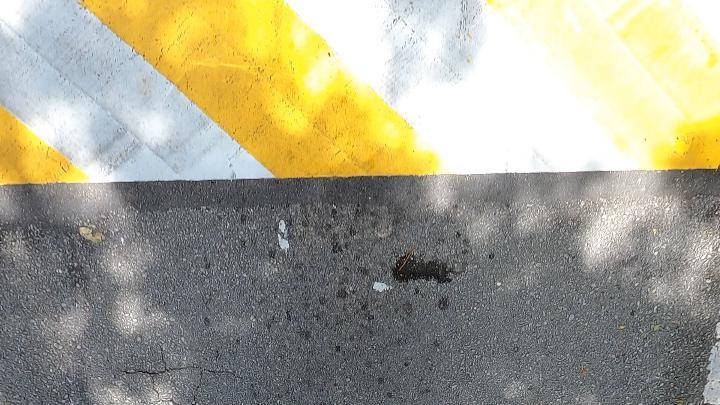Crack: (122, 350, 236, 404), (126, 351, 186, 390), (179, 386, 208, 404), (201, 368, 233, 374)
Lane: (0, 0, 720, 187)
